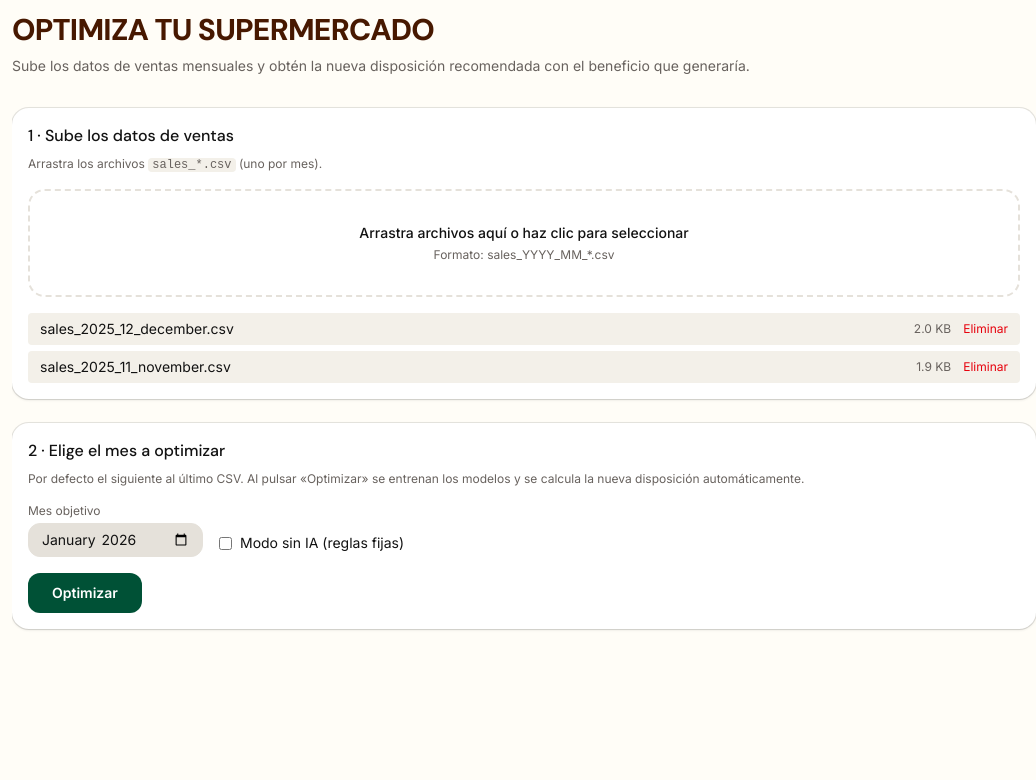
Test: HomePage › shows progress during streaming
Expected: the text "sales_2025_12_december.csv" is shown, [40,319,234,339]
Click the button "Optimizar": (85, 593) [28,573,142,613]
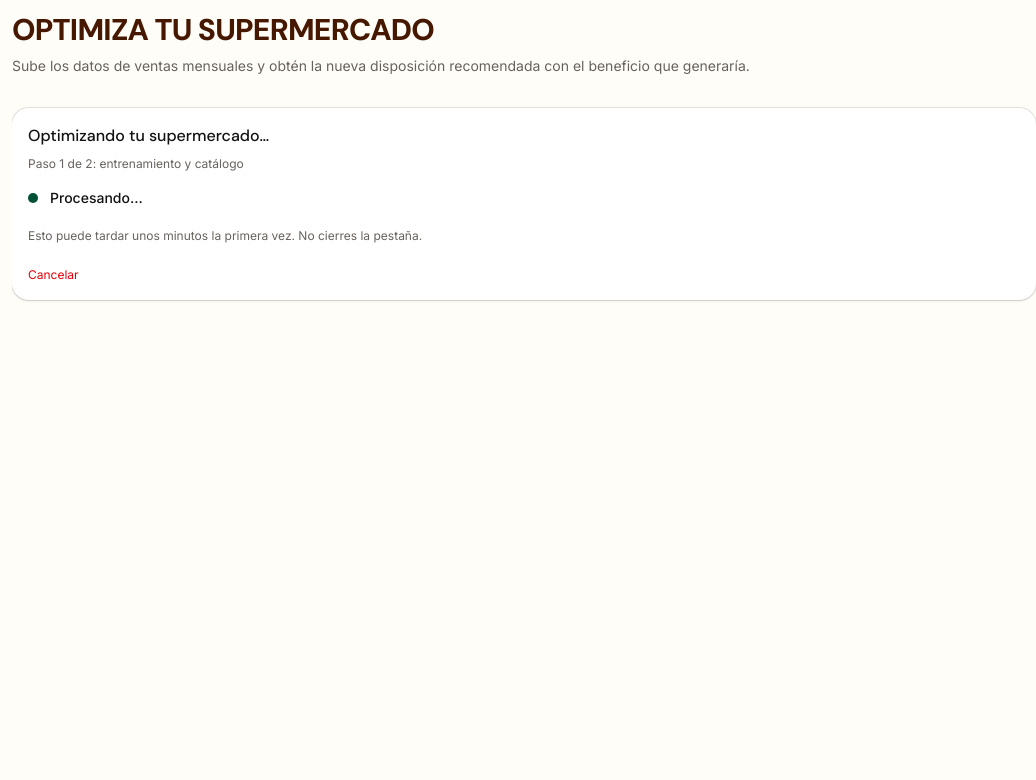
Expected: the text "Paso 1 de 2: entrenamiento y catálogo" is shown, [28,156,244,171]
